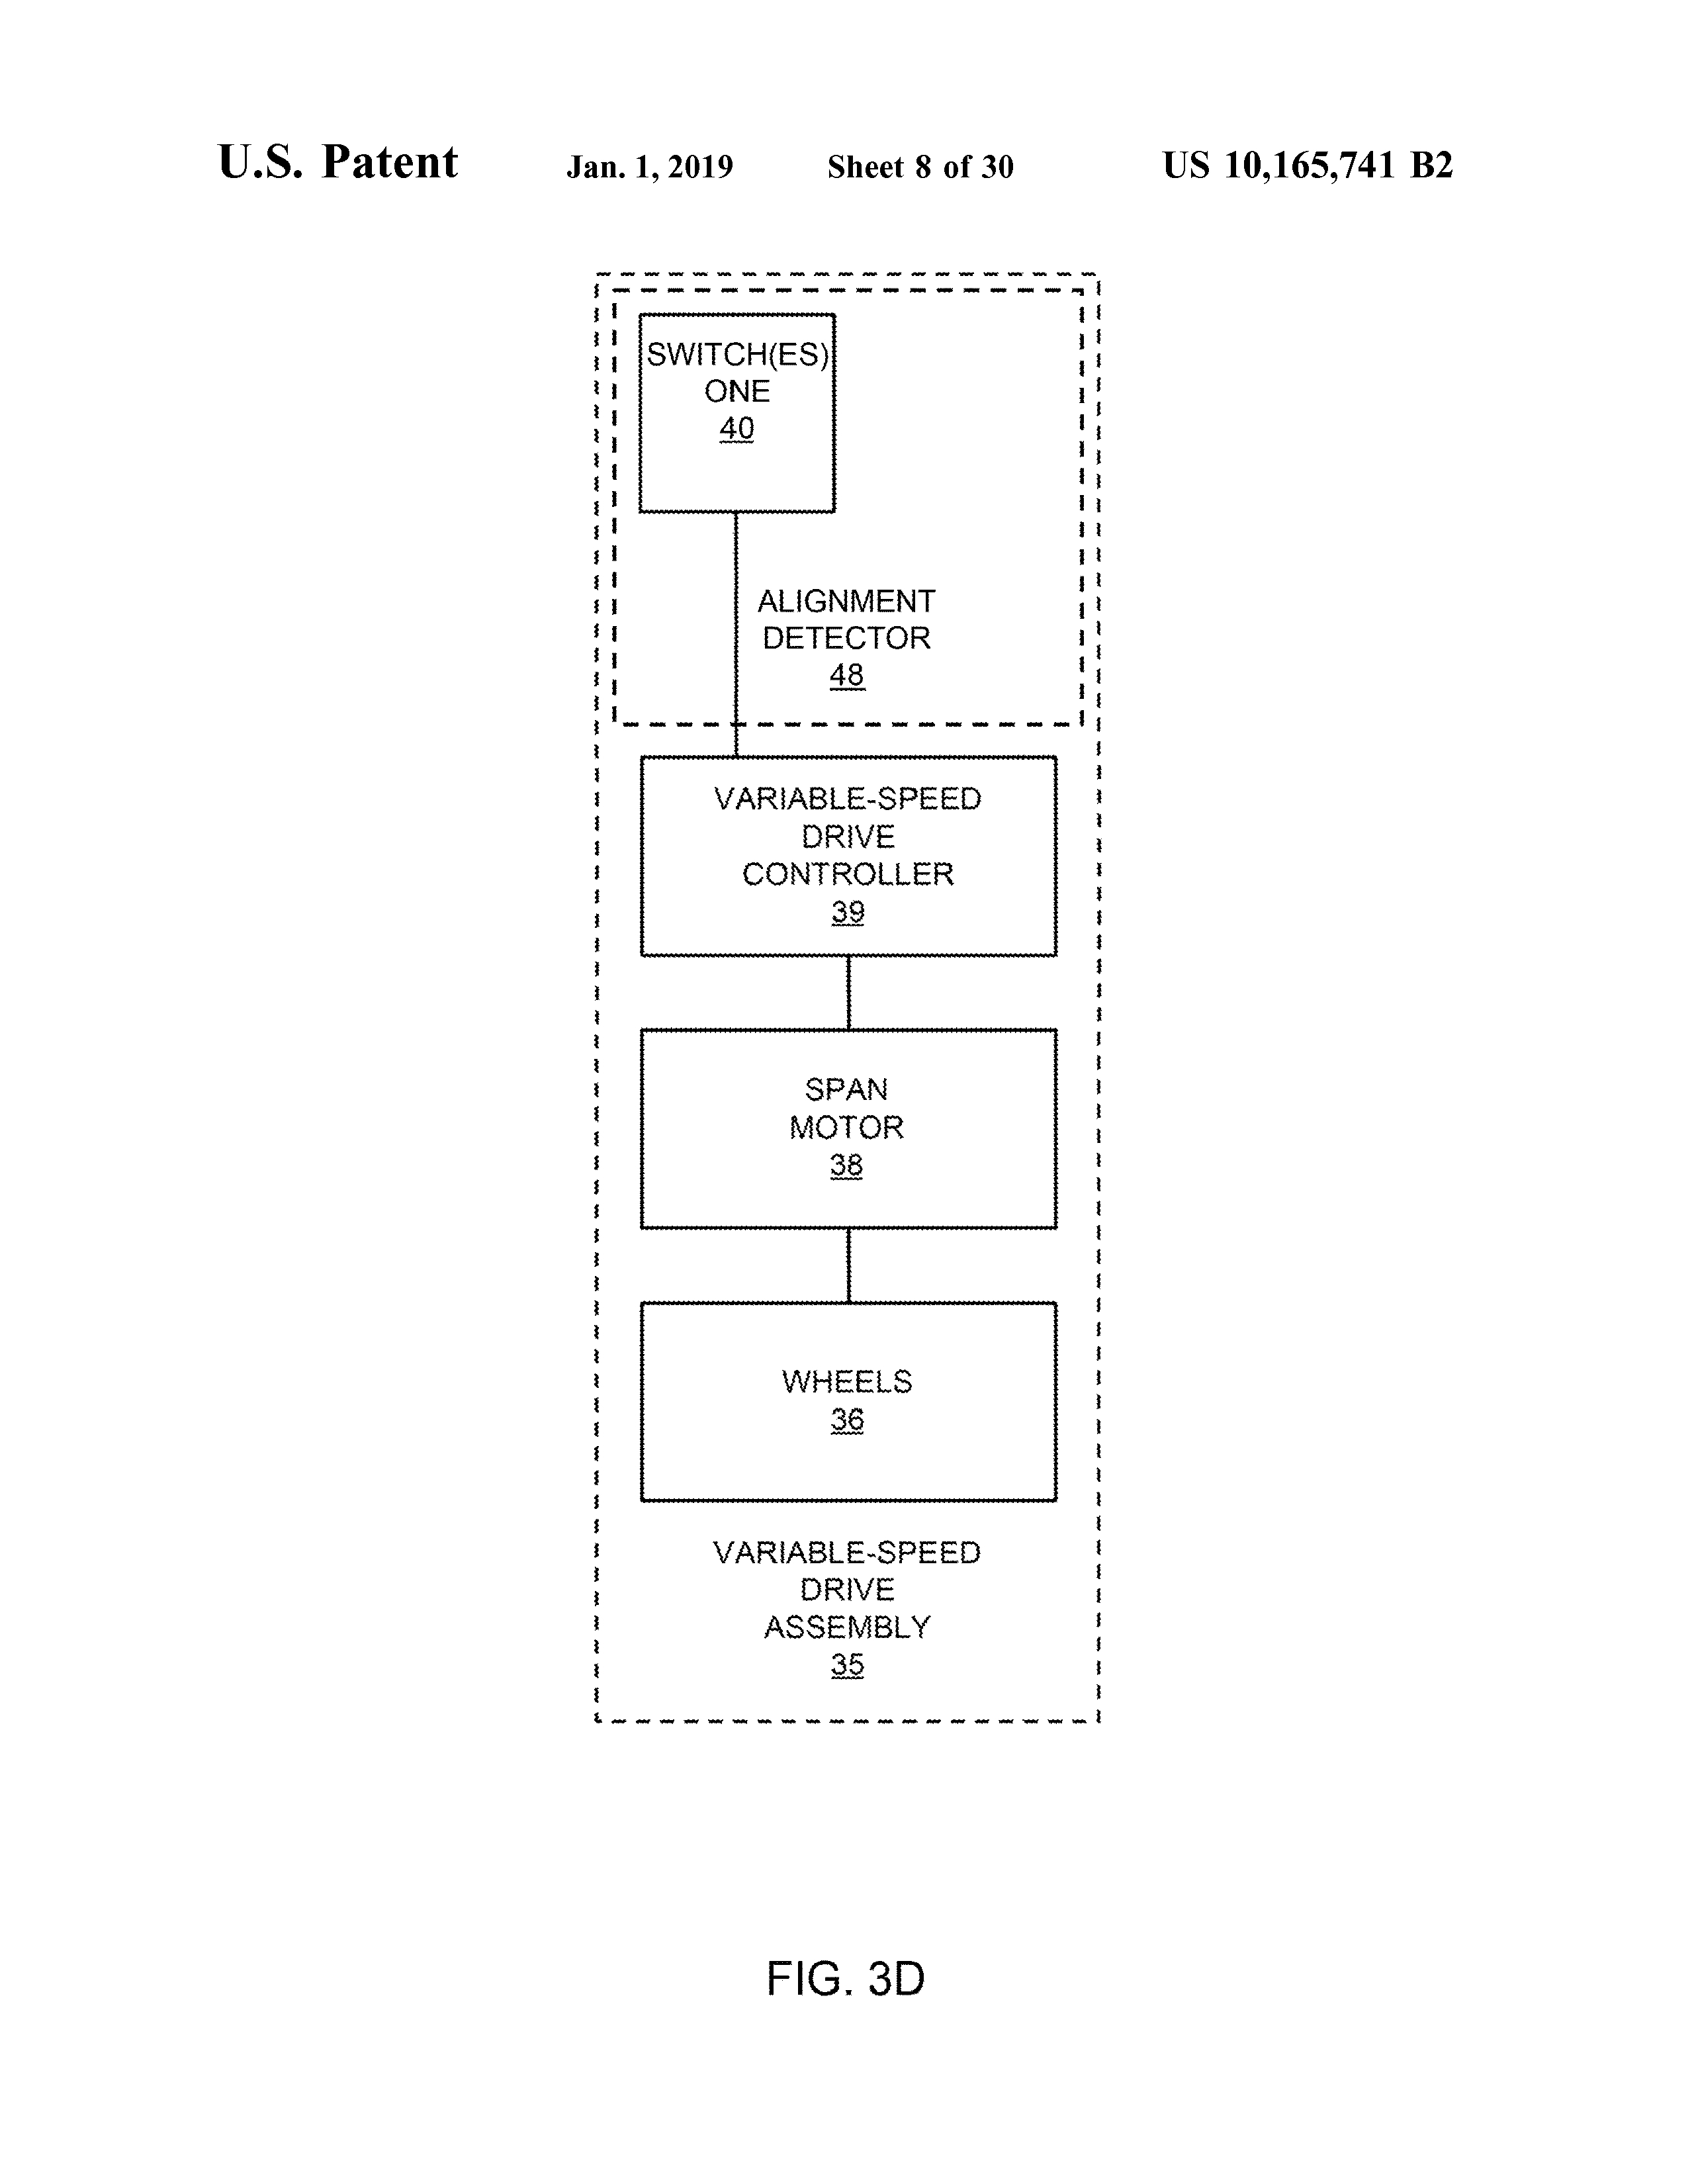patent image: (572, 259, 1137, 2035)
